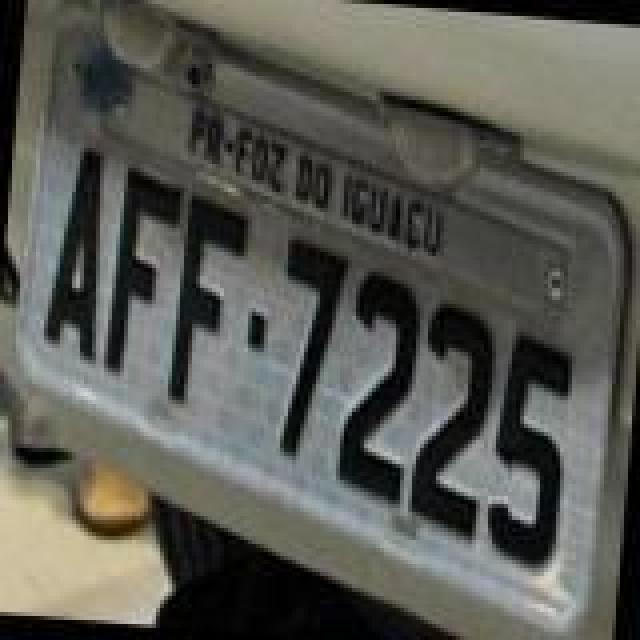2: (408, 298, 504, 542), (334, 270, 426, 506)
5: (480, 330, 584, 574)
7: (270, 236, 354, 468)
A: (42, 144, 118, 368)
F: (162, 192, 254, 416), (102, 162, 186, 382)
